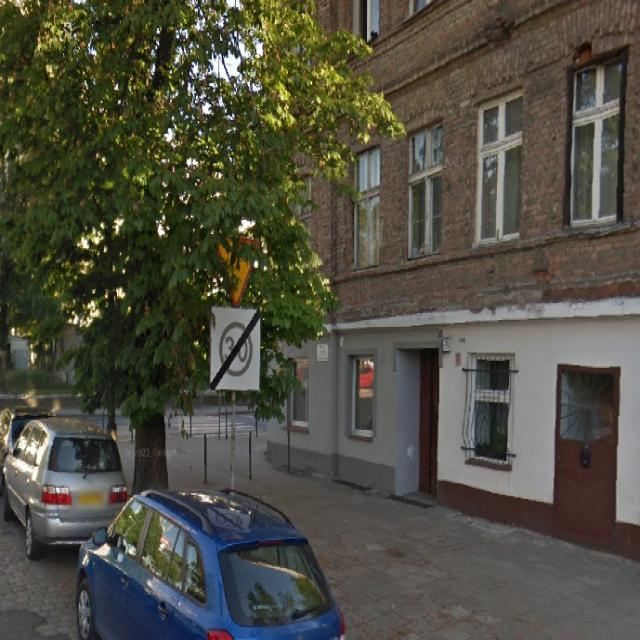Ustap pierwszenstwa: (217, 234, 260, 306)
